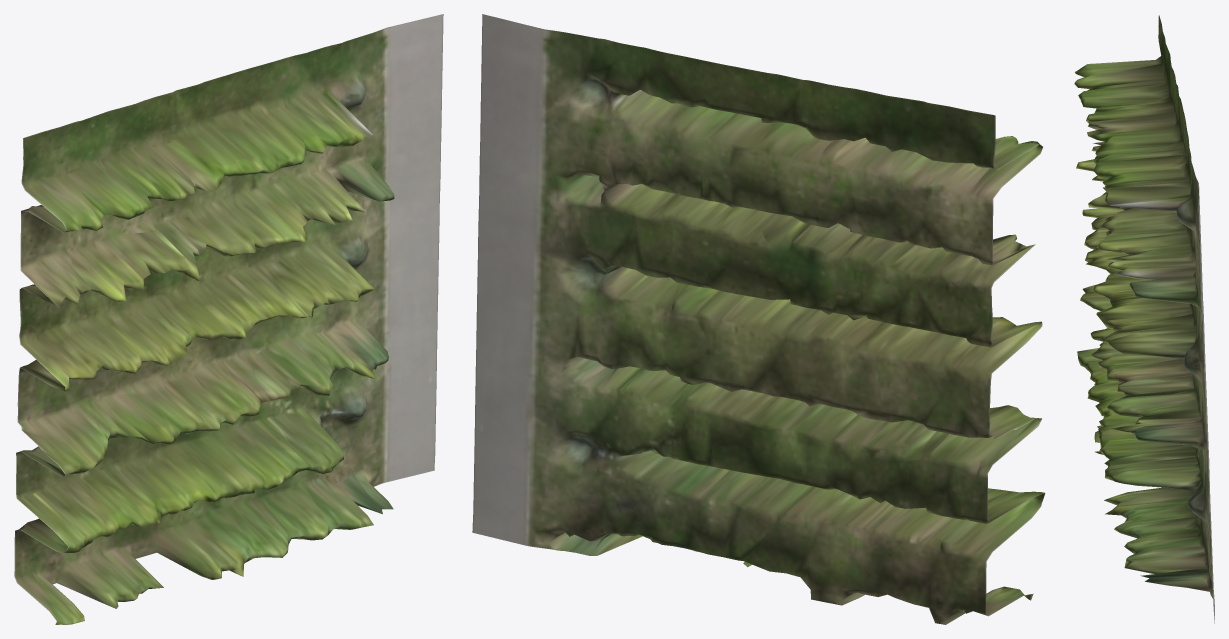
The model's file is map_80_80.obj.
3 views of the same model, side by side, from view 1: azimuth 30°, elevation 25°; view 2: azimuth 150°, elevation 25°; view 3: azimuth 270°, elevation 25° (orthographic). The views are drawn at different scales.
Size of the model in its own units: 10 by 10 by 3.06.
Materials: 1 (1 with a texture image).
